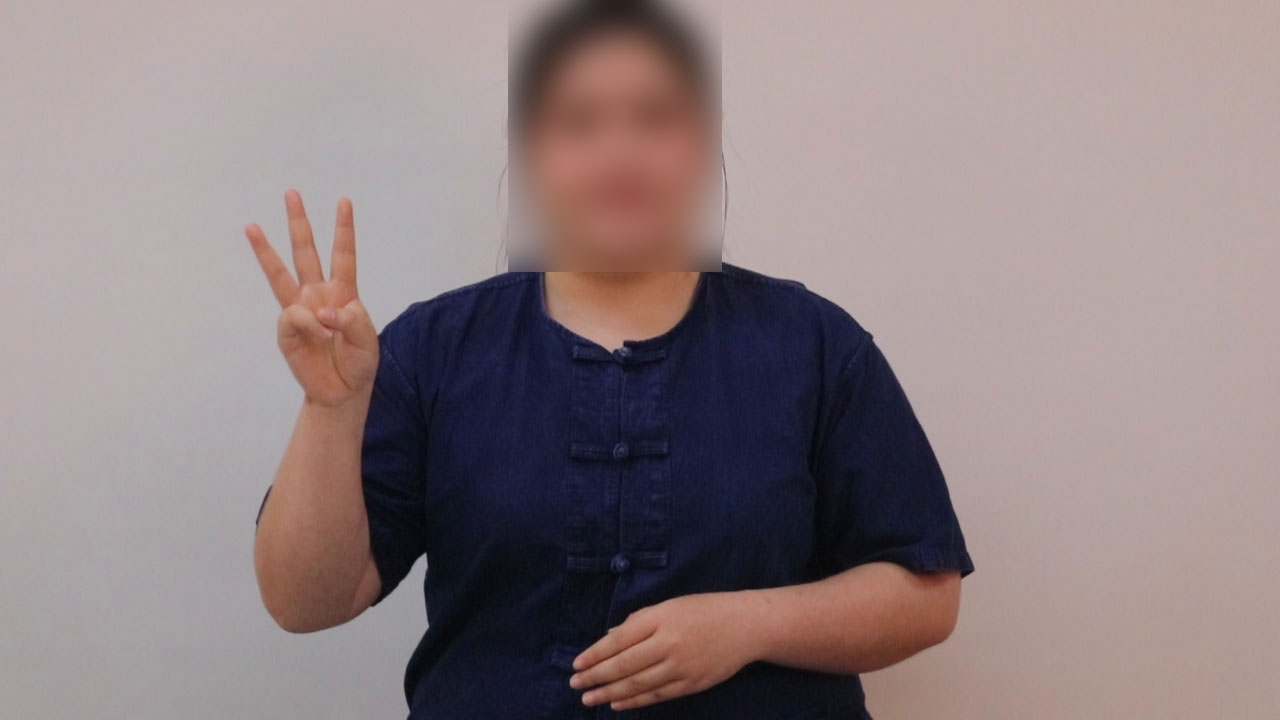wor: (238, 180, 387, 410)
